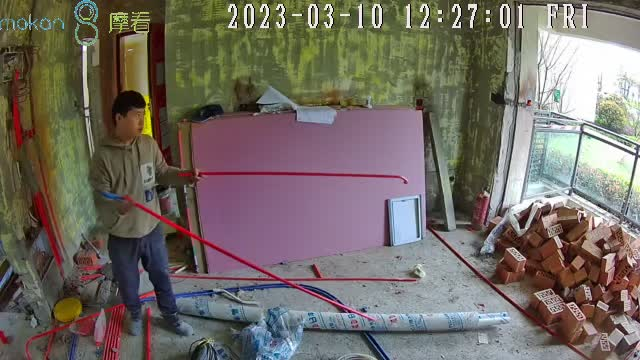people: (88, 91, 202, 337)
window: (538, 17, 640, 222)
